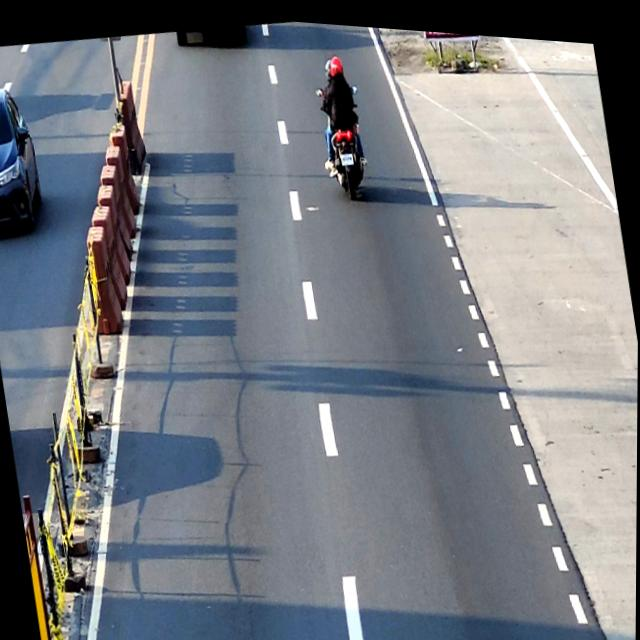Car: (0, 82, 48, 238)
License-Plate: (340, 147, 354, 161)
Motorcycle: (313, 75, 375, 201)
